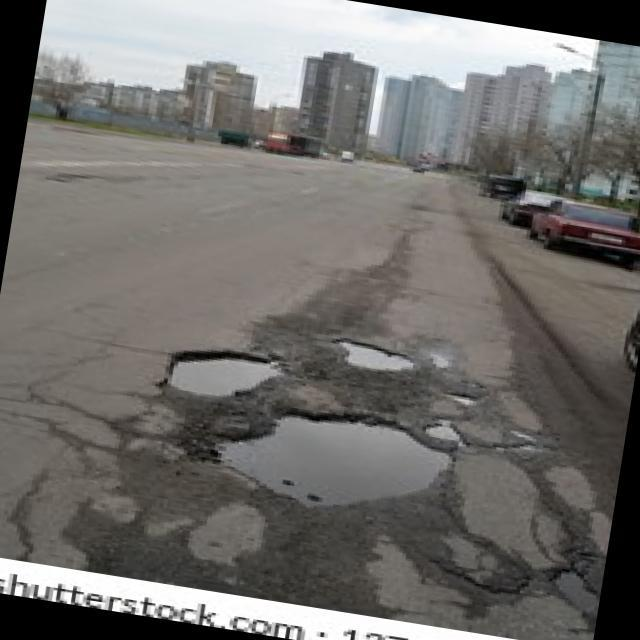Pothole: (201, 393, 457, 526), (150, 334, 284, 410), (540, 548, 606, 617), (332, 337, 420, 378), (424, 417, 470, 447), (450, 391, 478, 408)
